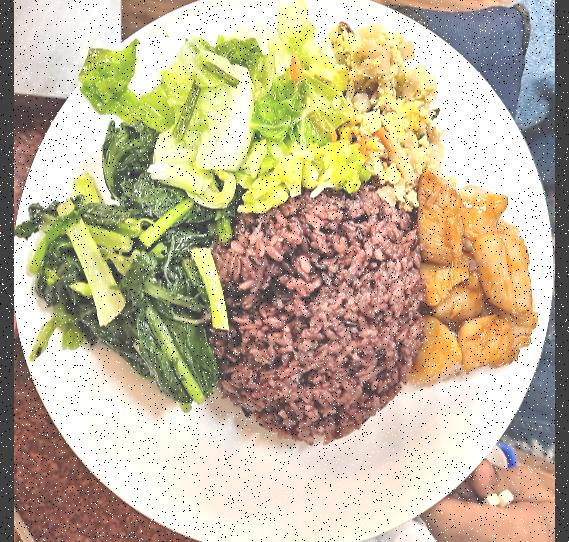plate: (13, 0, 545, 542)
purple rice: (216, 193, 422, 456)
side dish: (30, 159, 214, 404), (115, 28, 350, 192), (344, 21, 442, 204)
spicy chicken: (402, 164, 542, 414)
